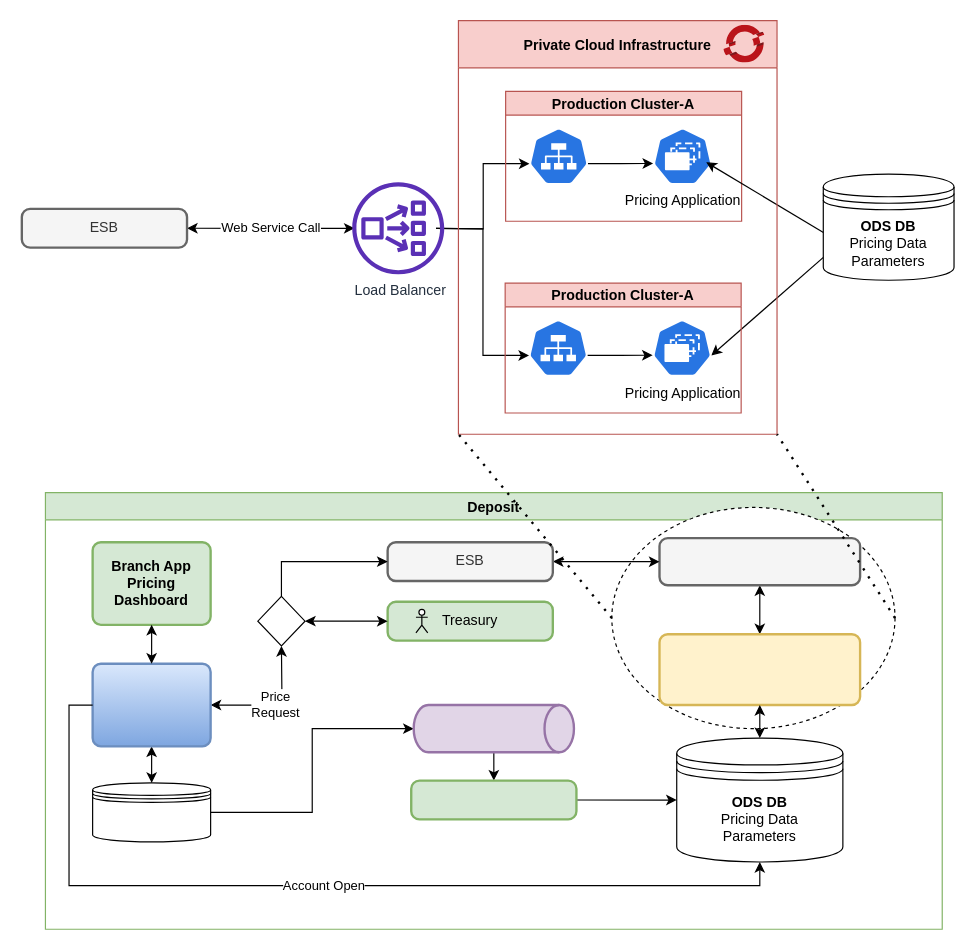
Image size: 975x950. Some labels were removed from this diagram. Each missing label, with the centre of its shape:
"Core DB" goes at (x=151, y=812).
"Data Transfer Batch" goes at (x=493, y=799).
"Deposit Backend Application" goes at (x=151, y=704).
"EDW Extension Data" goes at (x=493, y=728).
"Python Pricing Application" goes at (x=759, y=669).
"Python Pricing Web Service" goes at (x=759, y=561).
